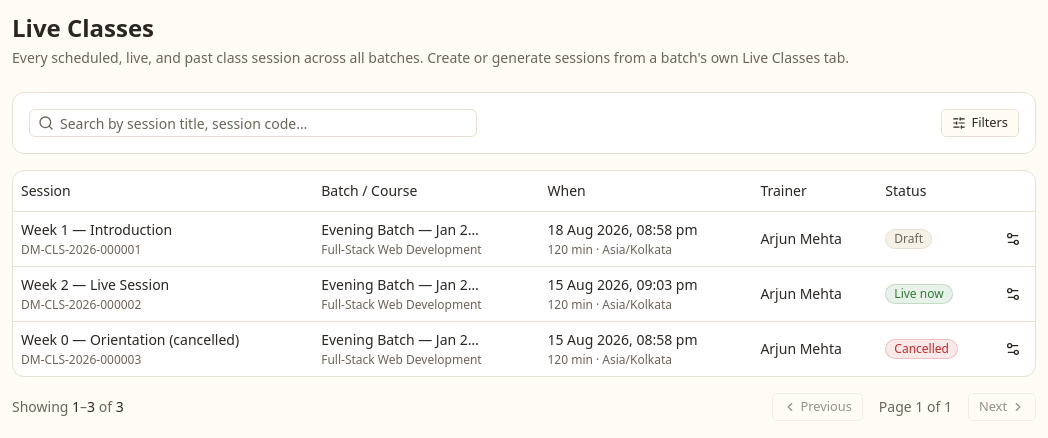
Test: LiveClassesPage › filters the list by search text
This screenshot has width=1048, height=438.
Expected: the text "Week 2 — Live Session" is shown, [21,274,169,294]
Step 1. Type "Live Session" into the field with placeholder "Search by session title, session code…" → point(265, 123), box [54,107,476,139]
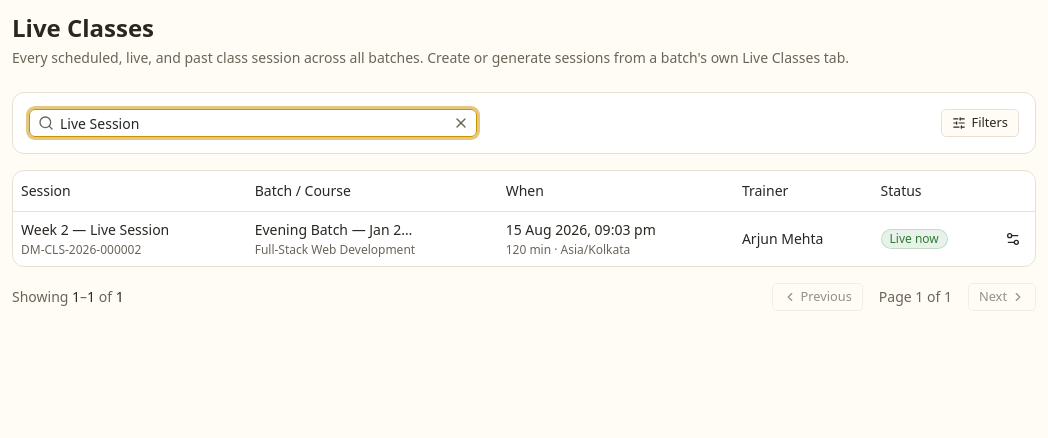
Expected: the text "Week 2 — Live Session" is shown, [21,220,169,238]
Expected: the text "Week 1 — Introduction" is gone
